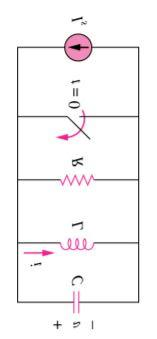inductor: (49, 232, 100, 255)
